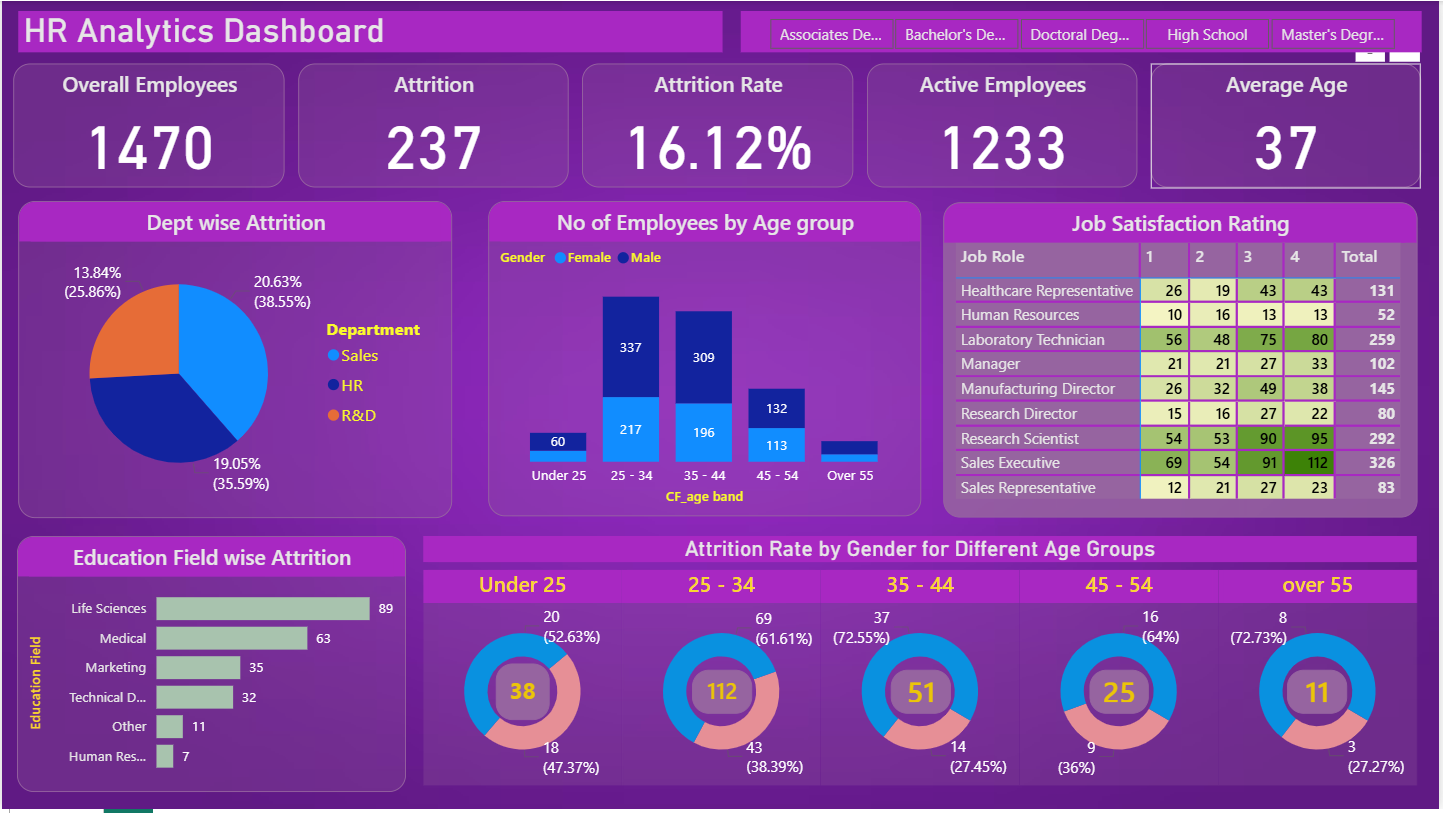

What the dashboard file says about the page in this screenshot:
{"tool":"powerbi","page":{"name":"Page 1","canvas":[1280,720],"ordinal":0},"visuals":[{"type":"card","title":"Overall Employees","fields":{"Values":["Sum(HR data.Employee Count)"]},"box":[9.6,56.2,241.7,110.4],"z":0},{"type":"card","title":"Attrition","fields":{"Values":["Sum(HR data.Attrition_Count)"]},"box":[263.6,56.2,240.5,110.4],"z":1000},{"type":"card","title":"Attrition Rate","fields":{"Values":["HR data.Attrition Rate"]},"box":[516.3,56.2,241.7,110.4],"z":2000},{"type":"card","title":"Active Employees","fields":{"Values":["HR data.Active Employees"]},"box":[770.3,56.2,240.5,110.4],"z":3000},{"type":"card","title":"Average Age","fields":{"Values":["Avg(HR data.Age)"]},"box":[1023.1,56.2,240.5,110.4],"z":4000},{"type":"pieChart","title":"Dept wise Attrition","fields":{"Category":["HR data.Department"],"Y":["HR data.Attrition Rate"]},"box":[14.5,177.7,386.5,282.2],"z":5000},{"type":"columnChart","title":"No of Employees by Age group","fields":{"Category":["HR data.CF_age band"],"Y":["Sum(HR data.Employee Count)"],"Series":["HR data.Gender"]},"box":[433.1,177.9,385.3,281],"z":6000},{"type":"pivotTable","title":"Job Satisfaction Rating","fields":{"Rows":["HR data.Job Role"],"Columns":["HR data.Job Satisfaction"],"Values":["Sum(HR data.Employee Count)"]},"box":[838,179.1,422.1,281],"z":7000},{"type":"barChart","title":"Education Field wise Attrition ","fields":{"Category":["HR data.Education Field"],"Y":["Sum(HR data.Attrition_Count)"]},"box":[13.5,476.1,346,228.2],"z":8000},{"type":"donutChart","title":"Under 25","fields":{"Category":["HR data.Gender"],"Y":["Sum(HR data.Attrition_Count)"],"Series":["HR data.CF_age band"]},"box":[375.4,506.2,177,192.1],"z":9000},{"type":"textbox","title":"Attrition Rate by Gender for Different Age Groups","box":[375.5,476.1,884.7,23.3],"z":10000},{"type":"donutChart","title":"25 - 34","fields":{"Category":["HR data.Gender"],"Y":["Sum(HR data.Attrition_Count)"],"Series":["HR data.CF_age band"]},"box":[552.4,506.2,177,192.1],"z":10001},{"type":"donutChart","title":"35 - 44","fields":{"Category":["HR data.Gender"],"Y":["Sum(HR data.Attrition_Count)"],"Series":["HR data.CF_age band"]},"box":[729.4,506.2,177,192.1],"z":10002},{"type":"donutChart","title":"45 - 54","fields":{"Category":["HR data.Gender"],"Y":["Sum(HR data.Attrition_Count)"],"Series":["HR data.CF_age band"]},"box":[906.4,506.2,177,192.1],"z":10003},{"type":"donutChart","title":"over 55","fields":{"Category":["HR data.Gender"],"Y":["Sum(HR data.Attrition_Count)"],"Series":["HR data.CF_age band"]},"box":[1083.5,506.2,177,192.1],"z":10004},{"type":"card","fields":{"Values":["Sum(HR data.Attrition_Count)"]},"box":[439.3,590.2,47.9,50.3],"z":10005},{"type":"card","fields":{"Values":["Sum(HR data.Attrition_Count)"]},"box":[614.7,595.1,54,39.3],"z":10006},{"type":"card","fields":{"Values":["Sum(HR data.Attrition_Count)"]},"box":[791.4,595.1,54,39.3],"z":10007},{"type":"card","fields":{"Values":["Sum(HR data.Attrition_Count)"]},"box":[968.1,595.1,52.8,39.3],"z":10008},{"type":"card","fields":{"Values":["Sum(HR data.Attrition_Count)"]},"box":[1144.8,595.1,54,39.3],"z":10009},{"type":"textbox","title":"HR Analytics Dashboard","box":[14.7,8.6,627,36.8],"z":10010},{"type":"slicer","fields":{"Values":["HR data.Education"]},"box":[657.7,8.6,606.1,36.8],"z":10011}]}

Visuals, with their boxes in screenshot pixels (x1, y1, x2, y2), scaled from the page's 1280x720 canvas onto the 1443x813 screenshot:
"Overall Employees" card: <region>11, 63, 283, 188</region>
"Attrition" card: <region>297, 63, 568, 188</region>
"Attrition Rate" card: <region>582, 63, 855, 188</region>
"Active Employees" card: <region>868, 63, 1140, 188</region>
"Average Age" card: <region>1153, 63, 1425, 188</region>
"Dept wise Attrition" pieChart: <region>16, 201, 452, 519</region>
"No of Employees by Age group" columnChart: <region>488, 201, 923, 518</region>
"Job Satisfaction Rating" pivotTable: <region>945, 202, 1421, 520</region>
"Education Field wise Attrition " barChart: <region>15, 538, 405, 795</region>
"Under 25" donutChart: <region>423, 572, 623, 788</region>
"Attrition Rate by Gender for Different Age Groups" textbox: <region>423, 538, 1421, 564</region>
"25 - 34" donutChart: <region>623, 572, 822, 788</region>
"35 - 44" donutChart: <region>822, 572, 1022, 788</region>
"45 - 54" donutChart: <region>1022, 572, 1221, 788</region>
"over 55" donutChart: <region>1221, 572, 1421, 788</region>
card - Sum(HR data.Attrition_Count): <region>495, 666, 549, 723</region>
card - Sum(HR data.Attrition_Count): <region>693, 672, 754, 716</region>
card - Sum(HR data.Attrition_Count): <region>892, 672, 953, 716</region>
card - Sum(HR data.Attrition_Count): <region>1091, 672, 1151, 716</region>
card - Sum(HR data.Attrition_Count): <region>1291, 672, 1351, 716</region>
"HR Analytics Dashboard" textbox: <region>17, 10, 723, 51</region>
slicer - HR data.Education: <region>741, 10, 1425, 51</region>
